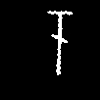double_crochet: (48, 11, 71, 74)
